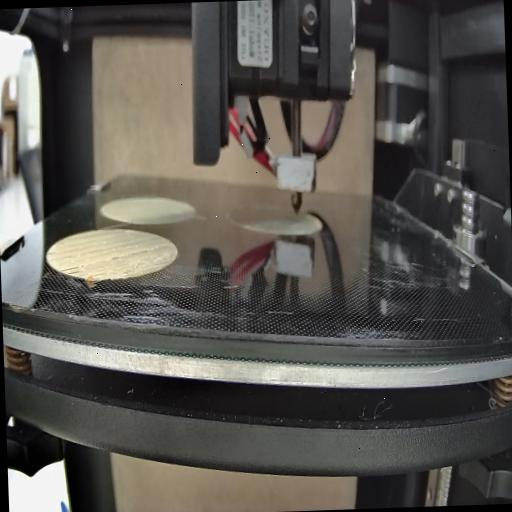under_extrusion: (110, 248, 150, 262), (58, 264, 88, 279), (46, 252, 68, 262), (116, 268, 136, 278), (92, 272, 111, 280)
